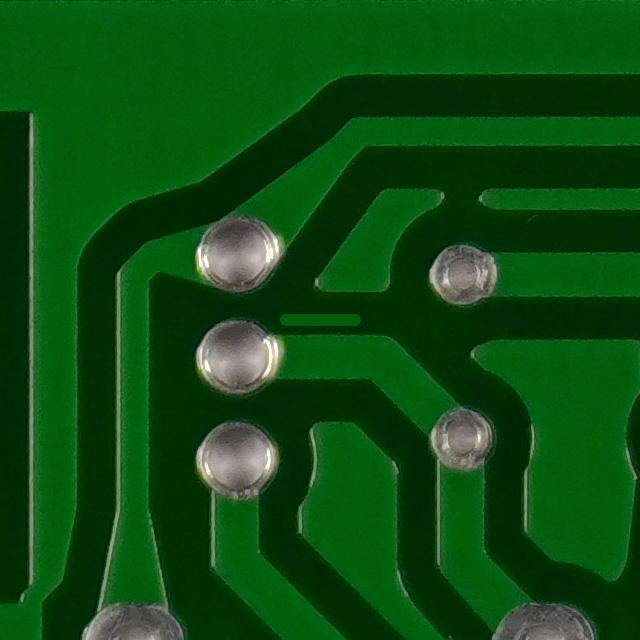spurious_copper: (273, 297, 367, 343)
